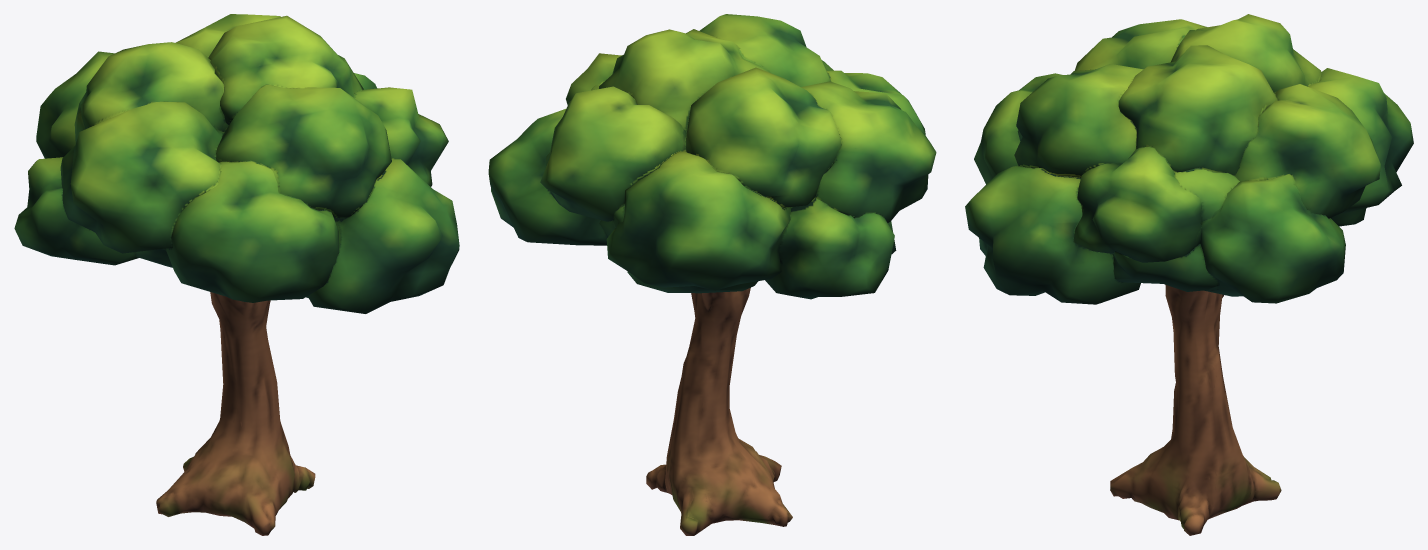
File: tree_a.glb
3 renders of one model, left to right at view 1: azimuth 30°, elevation 25°; view 2: azimuth 150°, elevation 25°; view 3: azimuth 270°, elevation 25°, orthographic.
Visible parts, largest first — view 1: tree_a; view 2: tree_a; view 3: tree_a.
Part boxes in pixels (x1,y1,x2,y2): tree_a: (14, 14, 459, 535); tree_a: (488, 14, 936, 535); tree_a: (965, 14, 1413, 535).
Bounding box in the file's own units: 3.87 × 4.57 × 4.02.
1 material, 1 textured.
